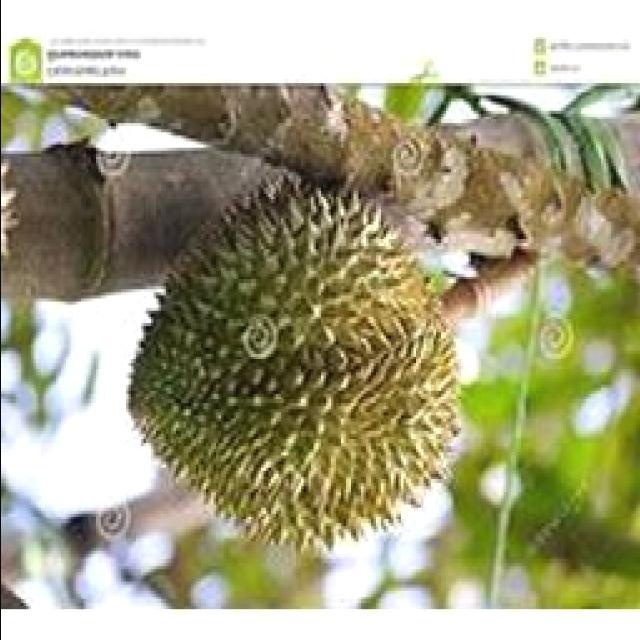agrume: (123, 151, 485, 551)
